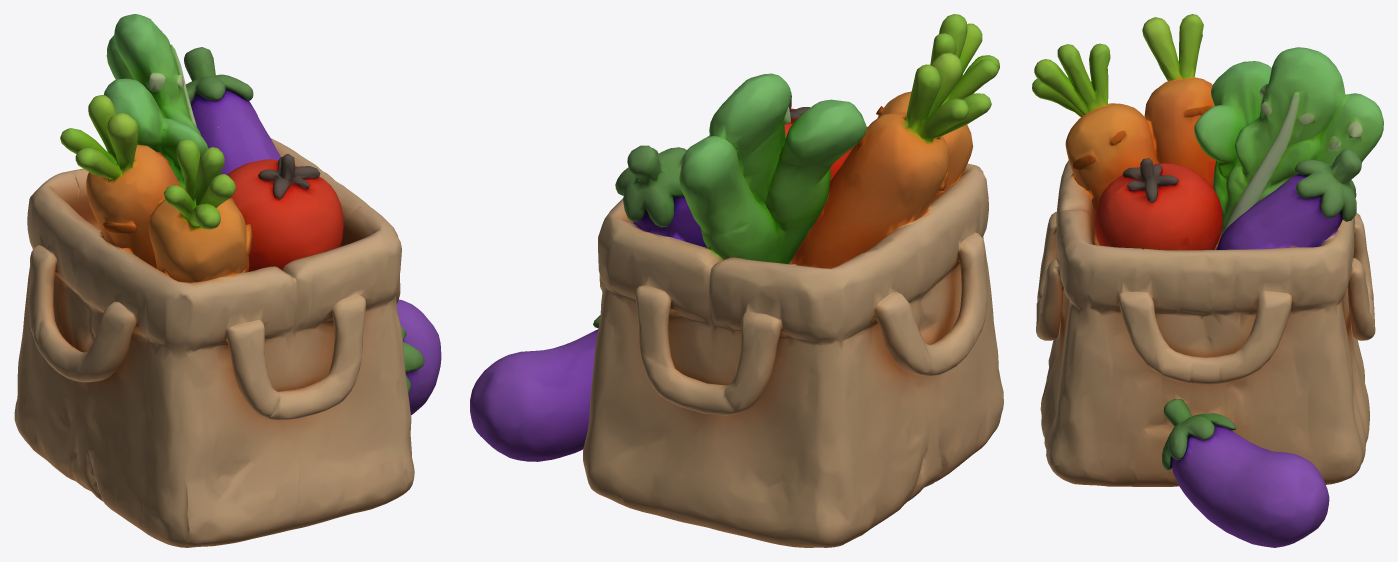
File: discovery-groceries-v2.glb
3 renders of one model, left to right at view 1: azimuth 30°, elevation 25°; view 2: azimuth 150°, elevation 25°; view 3: azimuth 270°, elevation 25°, orthographic. The views are drawn at different scales.
Parts seen in each view (by area): view 1: tripo_node_0fae58f5-53e7-487b-af8a-2d04e20fa94c; view 2: tripo_node_0fae58f5-53e7-487b-af8a-2d04e20fa94c; view 3: tripo_node_0fae58f5-53e7-487b-af8a-2d04e20fa94c.
Boxes of the visible parts, <box> form: tripo_node_0fae58f5-53e7-487b-af8a-2d04e20fa94c: <box>14,14,441,547</box>; tripo_node_0fae58f5-53e7-487b-af8a-2d04e20fa94c: <box>470,14,1003,547</box>; tripo_node_0fae58f5-53e7-487b-af8a-2d04e20fa94c: <box>1032,14,1383,547</box>.
Size of the model in its own units: 1 by 0.9746 by 0.7956.
Materials: 1 (1 with a texture image).
